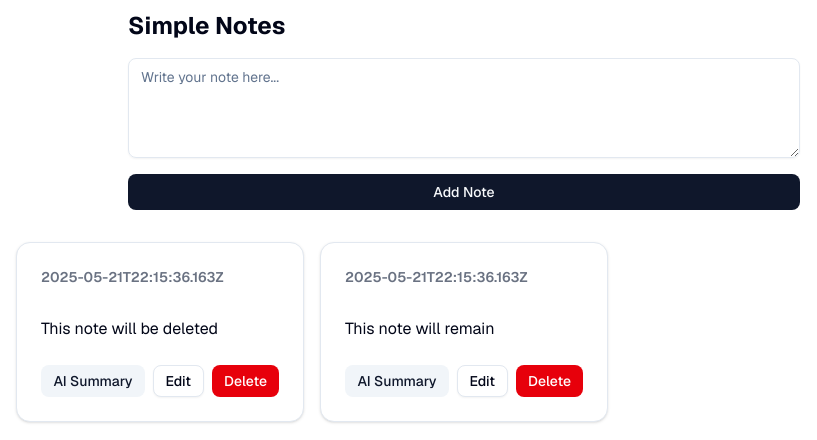
Test case: Home Page Integration Tests › allows user to delete a note
Expected: the text "This note will be deleted" is shown, [41,318,218,339]
Expected: the text "This note will remain" is shown, [345,318,495,339]
Step 1. Click the button "Delete" below "This note will be deleted" → (245, 381), box [212,365,279,397]
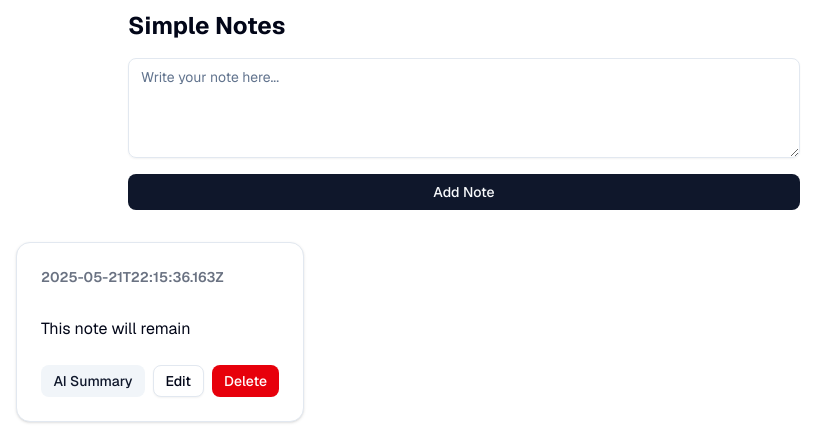
Expected: the text "This note will remain" is shown, [41,318,191,339]
Now the text "This note will be deleted" is gone
